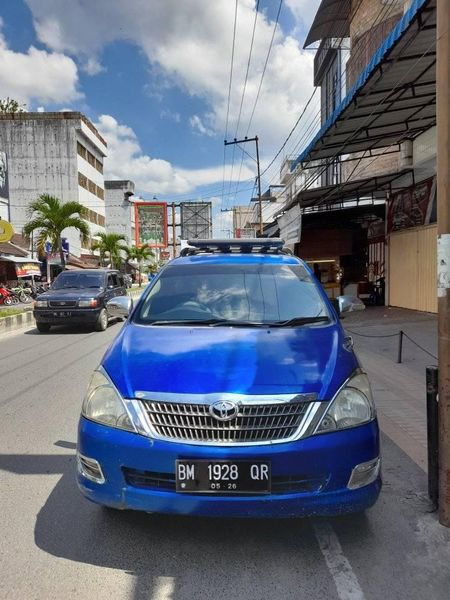plate: (170, 453, 275, 503)
